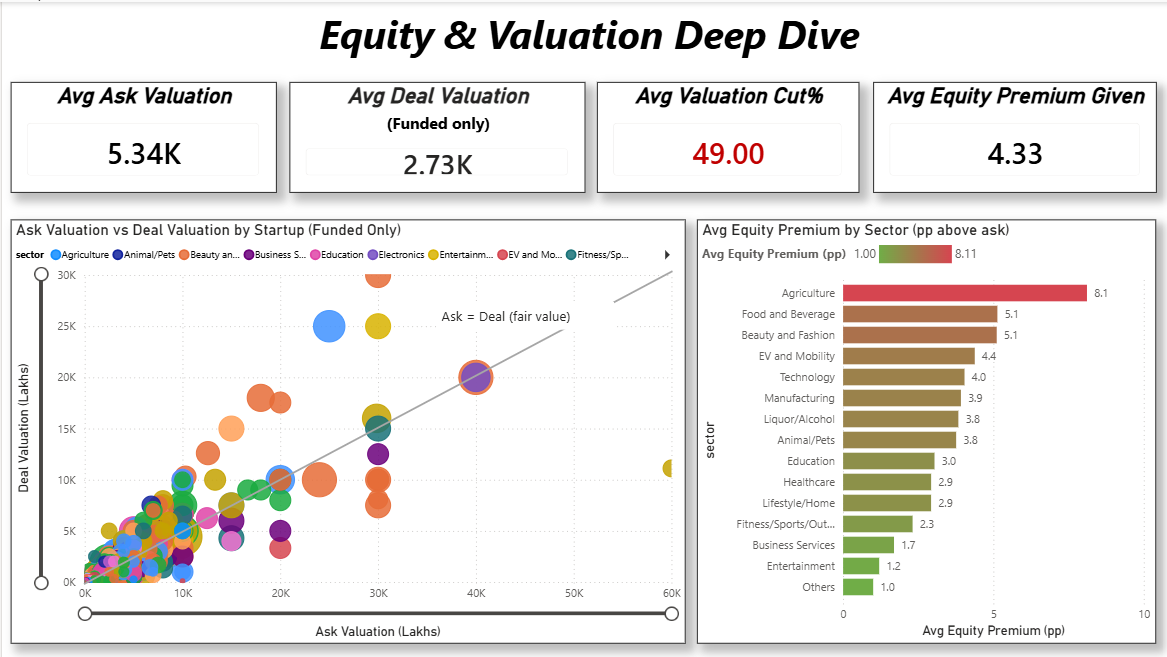

Layout of this report page (visuals, bound fields, positions):
{"tool":"powerbi","page":{"name":"Equity & Valuation Deep Dive","canvas":[1280,720],"ordinal":2},"visuals":[{"type":"textbox","box":[9.7,0,1270.3,72.9],"z":0},{"type":"scatterChart","title":"Ask Valuation vs Deal Valuation by Startup (Funded Only)","fields":{"X":["Sum(pitches.ask_valuation_lakh)"],"Y":["Sum(pitches.deal_valuation_lakh)"],"Category":["pitches.startup_name"],"Series":["pitches.sector"],"Size":["Sum(pitches.deal_amount_lakh)"]},"box":[9.7,239.3,741.2,465.9],"z":1000},{"type":"barChart","title":"Avg Equity Premium by Sector (pp above ask)","fields":{"Category":["pitches.sector"],"Y":["Measures_table.Avg Equity Premium (pp)"]},"box":[763.5,239.3,503.8,465.9],"z":2000},{"type":"cardVisual","title":"Avg Ask Valuation","fields":{"Data":["Measures_table.Avg Ask Valuation (Lakh)"]},"box":[9.7,87.5,291.8,121.6],"z":3000},{"type":"cardVisual","title":"Avg Deal Valuation","fields":{"Data":["Measures_table.Avg Deal Valuation (Lakh)"]},"box":[315.1,87.5,324.9,121.6],"z":4000},{"type":"cardVisual","title":"Avg Valuation Cut%","fields":{"Data":["Measures_table.Valuation cut %"]},"box":[653.6,87.5,287.9,121.6],"z":5000},{"type":"cardVisual","title":"Avg Equity Premium Given","fields":{"Data":["Measures_table.Avg Equity Premium (pp)"]},"box":[956.1,87.5,311.2,121.6],"z":6000},{"type":"shape","box":[89.2,293.7,647.7,347.2],"z":7000},{"type":"textbox","box":[477.6,329.7,194.5,30.2],"z":8000}]}

Visuals, with their boxes in screenshot pixels (x1, y1, x2, y2), scaled from the page's 1280x720 canvas onto the 1167x657 screenshot:
textbox: [9,0,1166,67]
"Ask Valuation vs Deal Valuation by Startup (Funded Only)" scatterChart: [9,218,685,643]
"Avg Equity Premium by Sector (pp above ask)" barChart: [696,218,1155,643]
"Avg Ask Valuation" cardVisual: [9,80,275,191]
"Avg Deal Valuation" cardVisual: [287,80,584,191]
"Avg Valuation Cut%" cardVisual: [596,80,858,191]
"Avg Equity Premium Given" cardVisual: [872,80,1155,191]
shape: [81,268,672,585]
textbox: [435,301,613,328]
